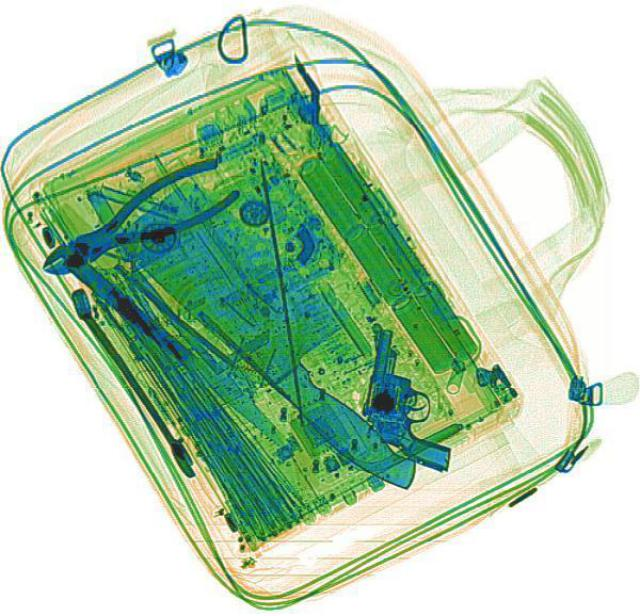Gun: (354, 322, 466, 469)
Knife: (111, 170, 466, 501)
Pliers: (23, 150, 245, 289)
